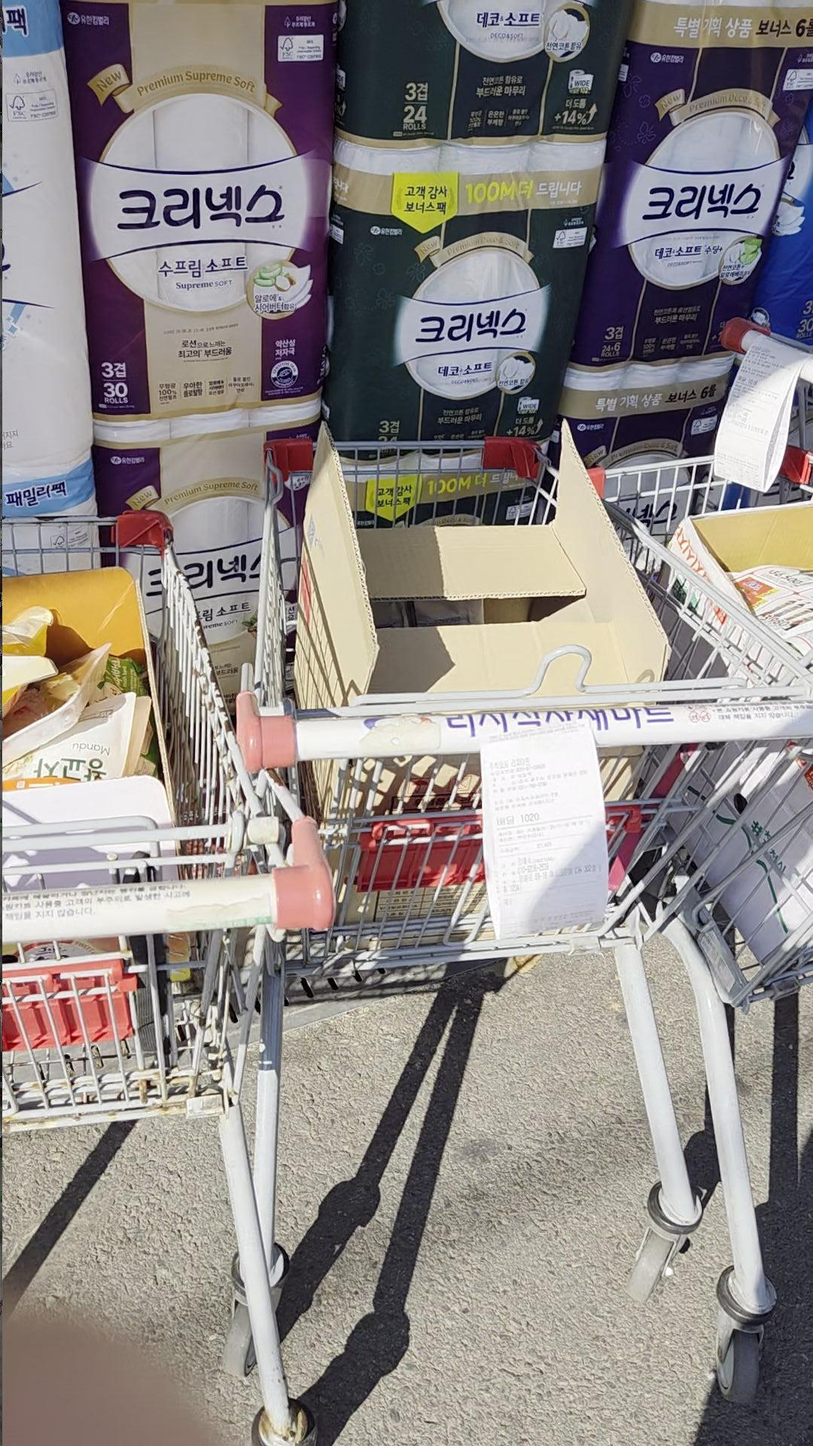fully_cart: (220, 435, 812, 1384), (0, 500, 344, 1445)
